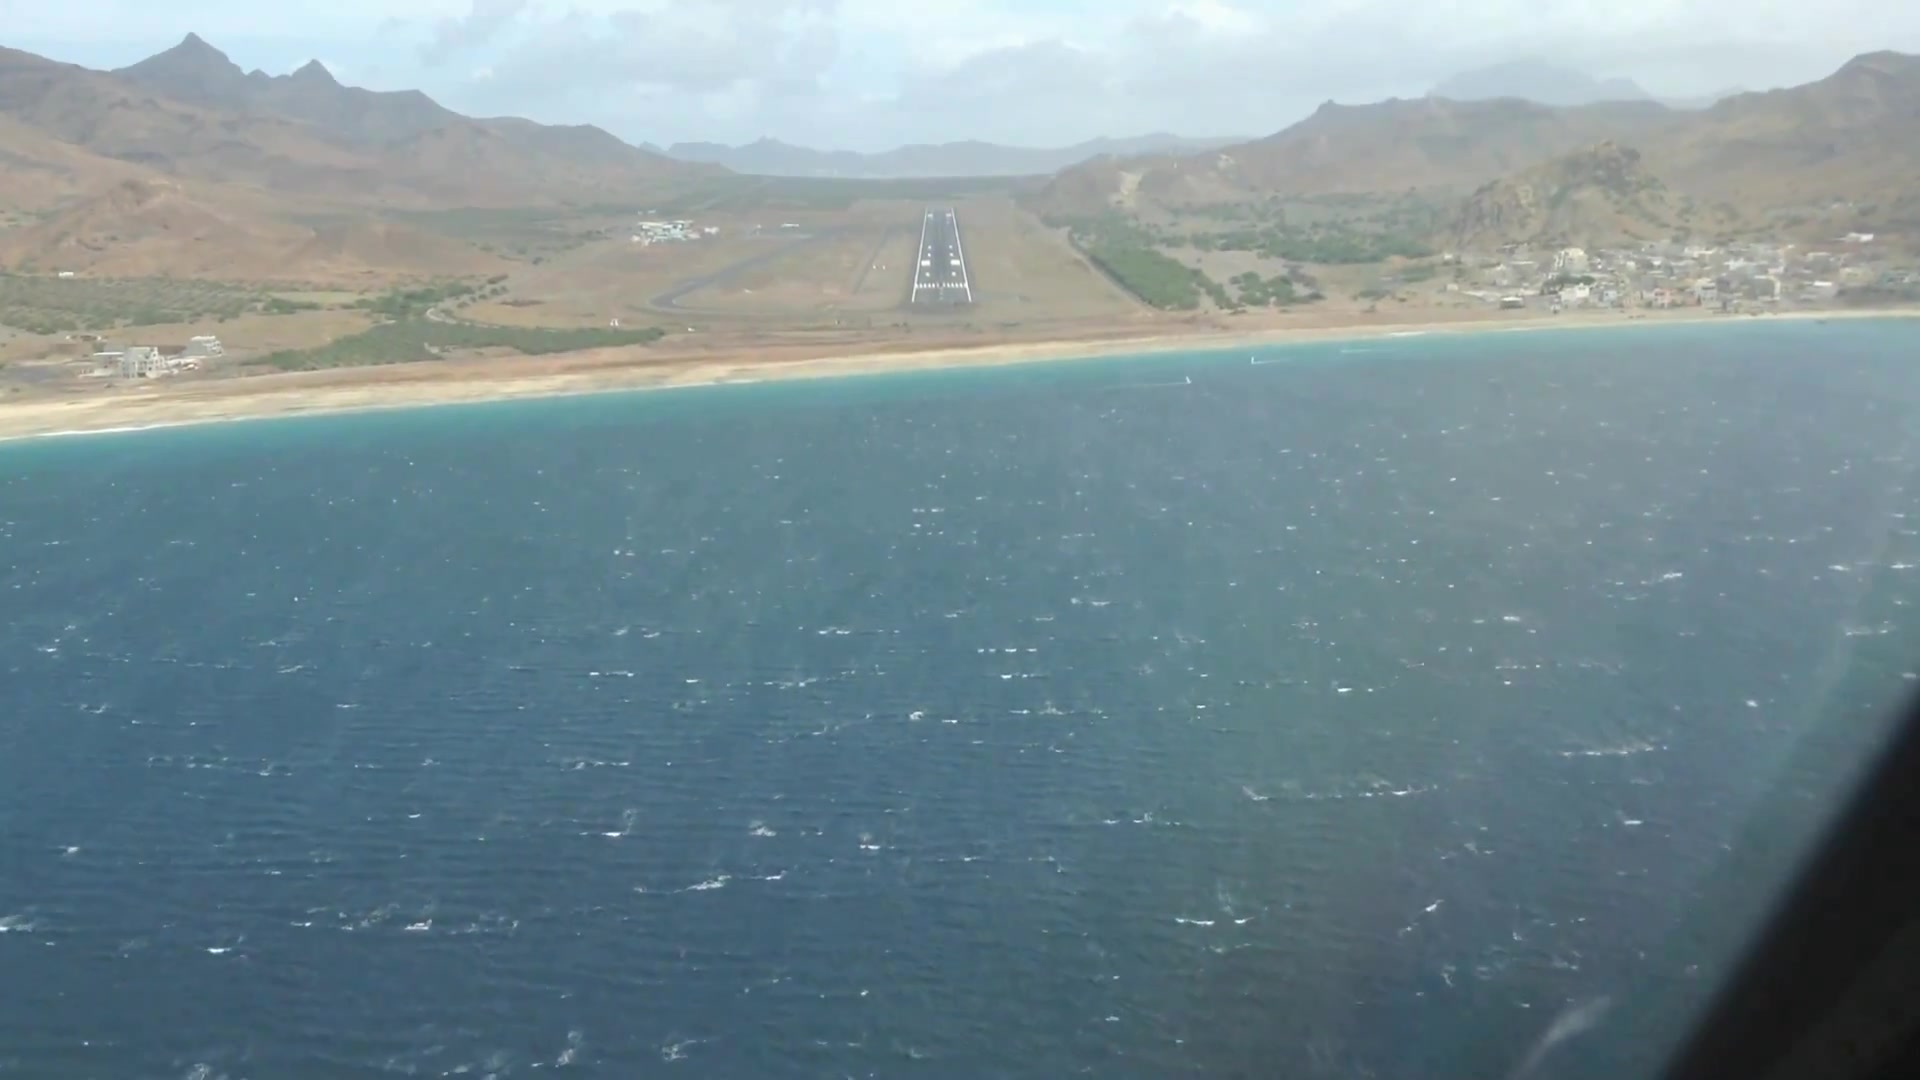entrance: (915, 281, 967, 290)
runway: (909, 203, 971, 306)
